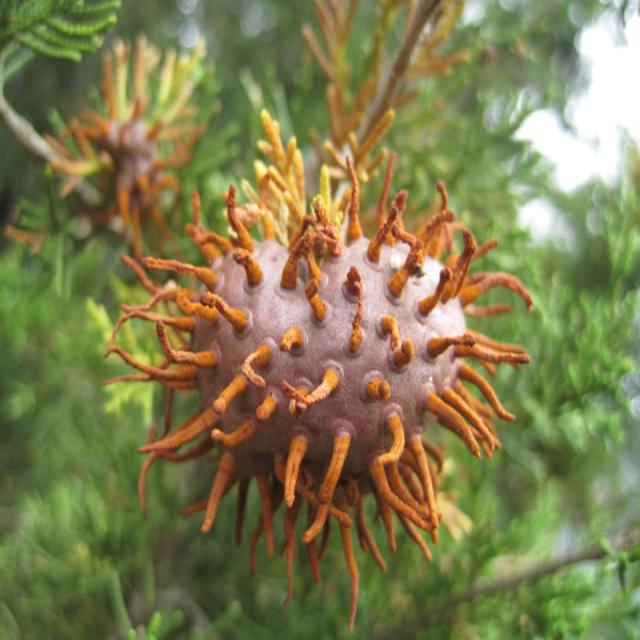Gymnosporangium_Rusts: (101, 109, 534, 629)
